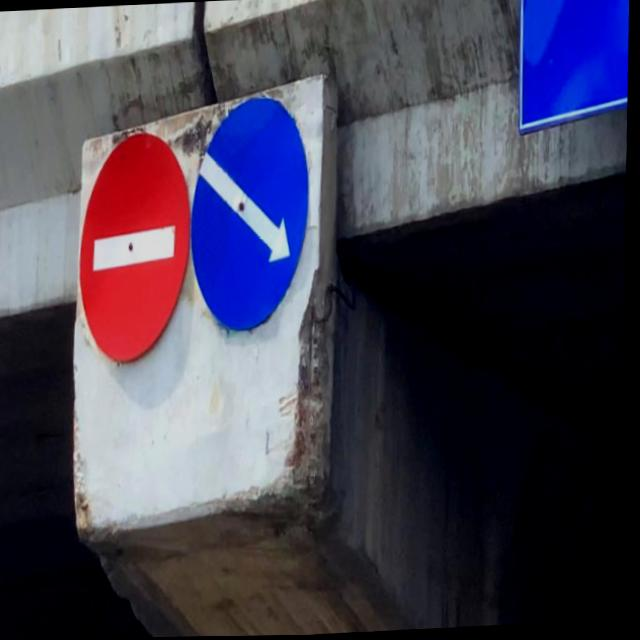Cam di nguoc chieu: (71, 124, 203, 366)
Vong chuong ngai vat sang phai: (184, 90, 323, 339)
